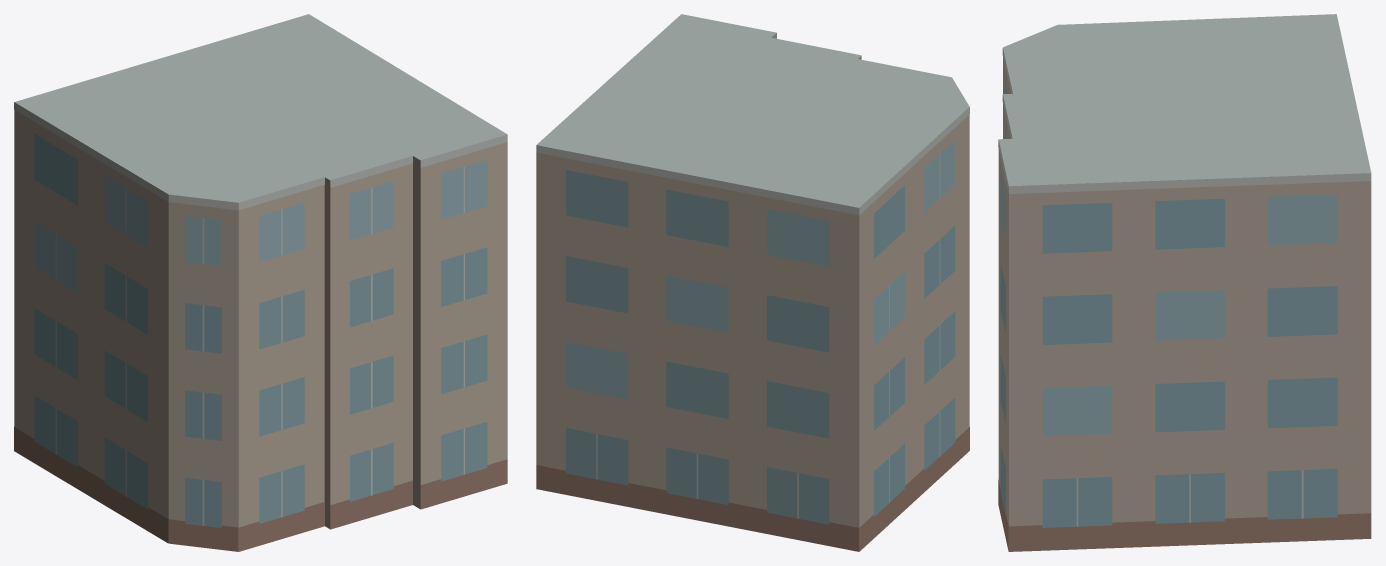
File: survey-upis-32729258.glb
The picture shows the model from 3 angles, left to right: view 1: azimuth 30°, elevation 25°; view 2: azimuth 150°, elevation 25°; view 3: azimuth 270°, elevation 25°; orthographic projection. The views are drawn at different scales.
Visible parts, largest first — view 1: survey-upis-32729258.tmp; view 2: survey-upis-32729258.tmp; view 3: survey-upis-32729258.tmp.
Part boxes in pixels (x1,y1,x2,y2): survey-upis-32729258.tmp: (14, 14, 507, 551); survey-upis-32729258.tmp: (536, 14, 969, 551); survey-upis-32729258.tmp: (998, 14, 1371, 551).
Size of the model in its own units: 11.43 by 11.3 by 10.45.
